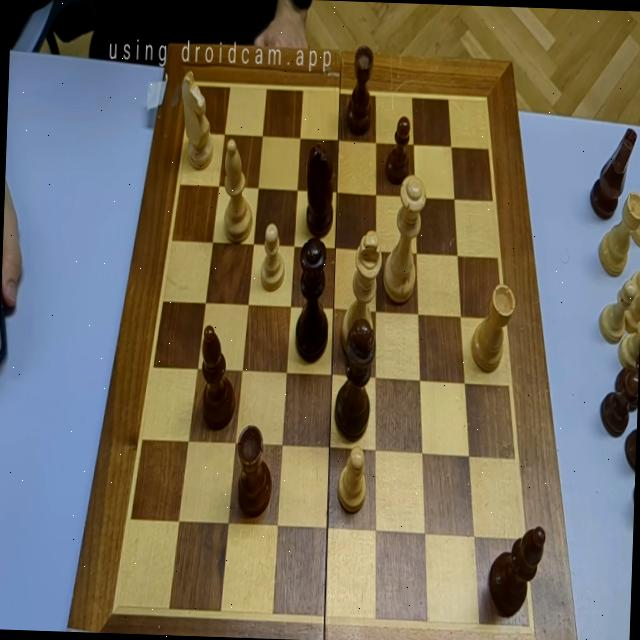black_bishop: (487, 524, 546, 618), (198, 324, 238, 429)
black_king: (332, 316, 377, 442)
black_knight: (302, 140, 334, 238)
black_pawn: (384, 114, 412, 184)
black_queen: (294, 235, 330, 364)
black_rook: (234, 424, 274, 518), (345, 44, 374, 136)
white_bishop: (221, 138, 255, 244)
white_king: (340, 228, 382, 356)
white_knight: (178, 70, 216, 170)
white_pawn: (337, 444, 368, 514), (259, 222, 285, 290)
white_queen: (382, 173, 427, 305)
white_rook: (469, 283, 516, 372)
